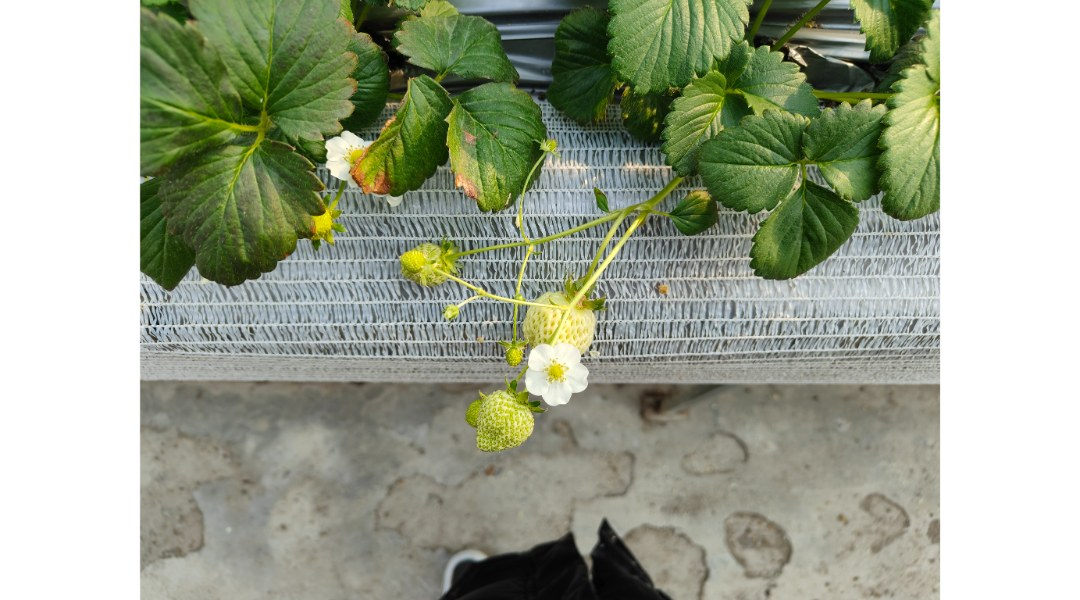berry: (525, 285, 605, 363), (470, 379, 531, 460), (385, 237, 454, 289), (461, 387, 489, 421)
flower: (524, 340, 596, 414), (316, 125, 387, 190)
strain: (570, 216, 646, 313), (545, 214, 609, 248), (446, 237, 516, 261), (520, 156, 543, 215), (656, 179, 687, 200)
